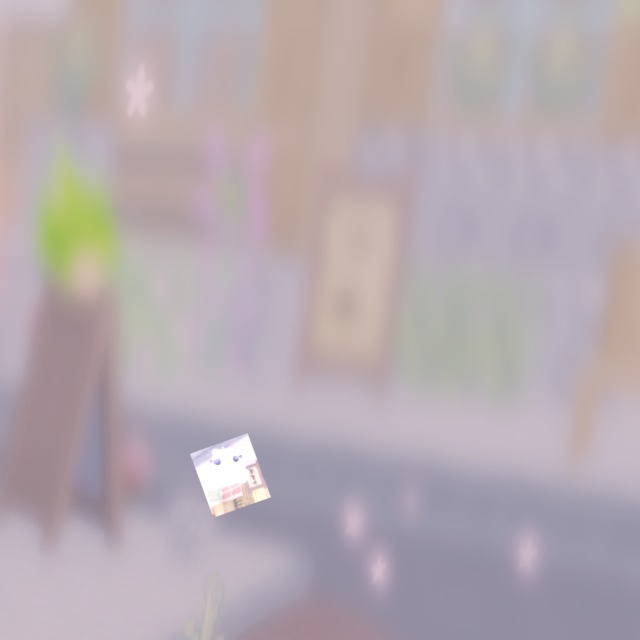urso_branco: (190, 433, 271, 518)
